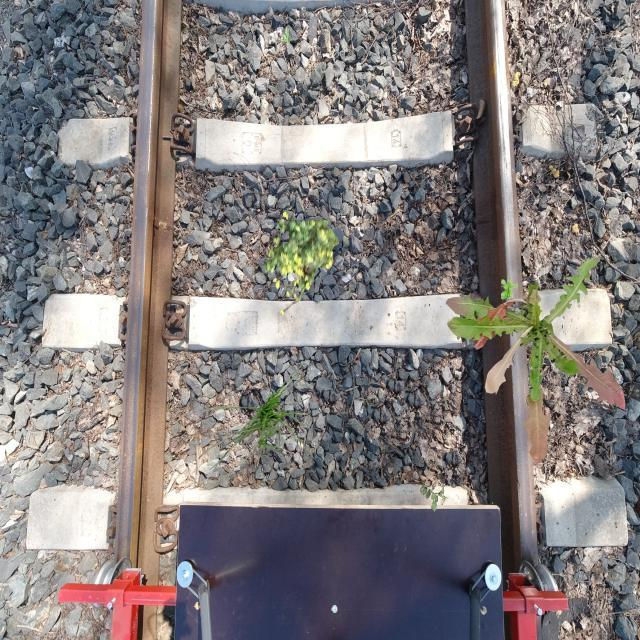Plant: (446, 257, 626, 466), (198, 360, 316, 482), (265, 211, 340, 316), (420, 481, 448, 512), (501, 278, 518, 302), (279, 27, 293, 42)
